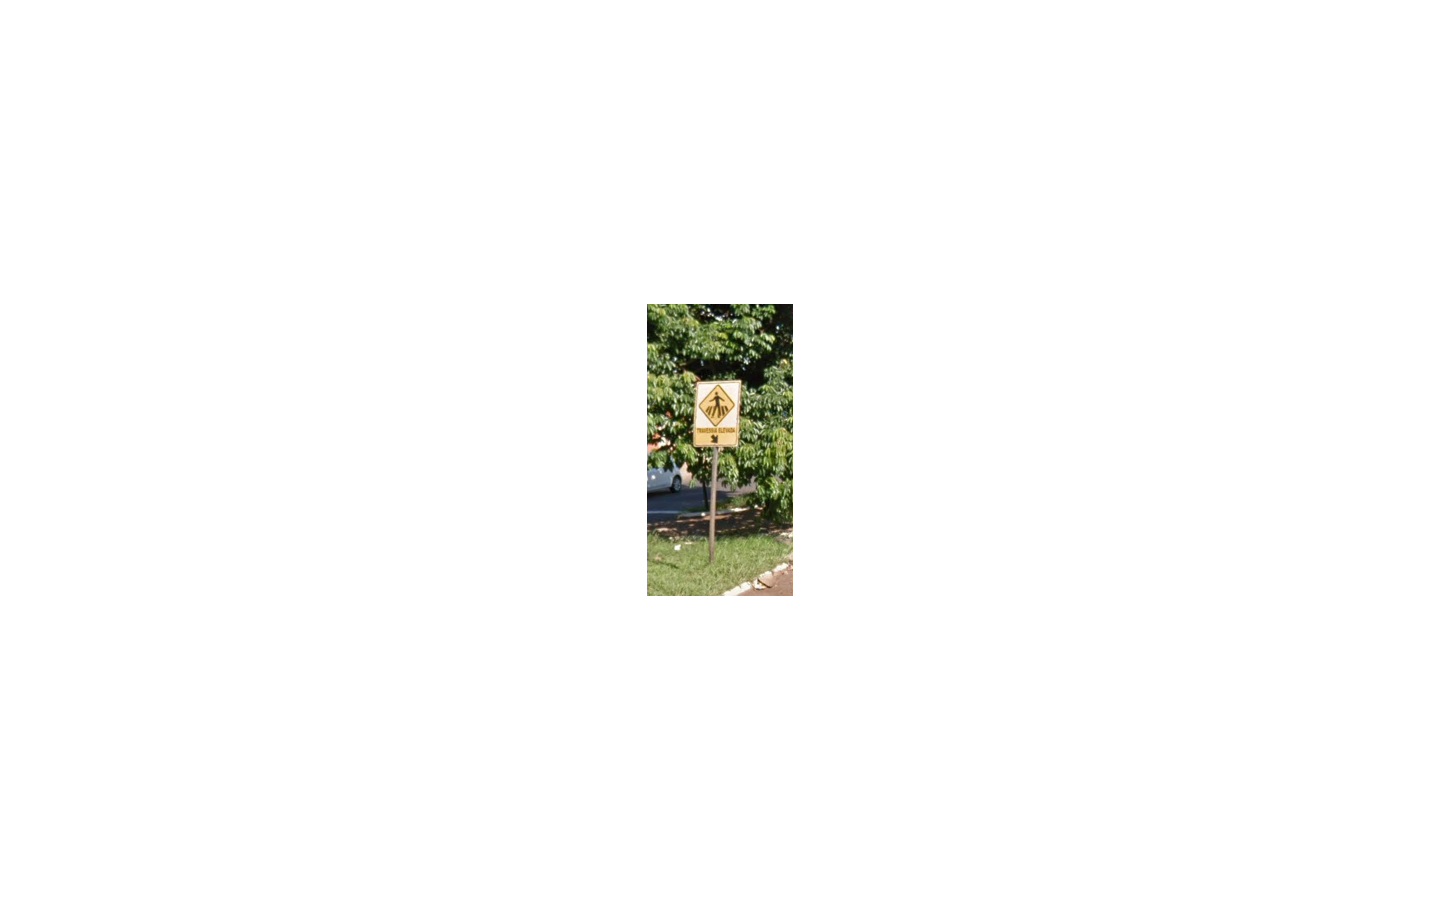telev: (693, 379, 741, 446)
